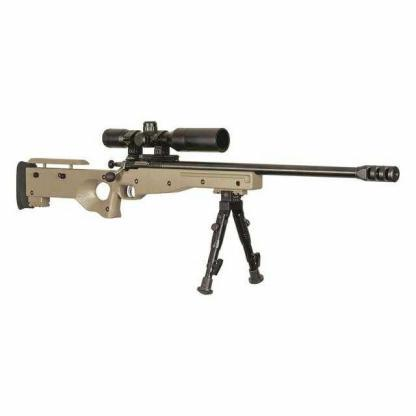rifle: (17, 108, 409, 288)
